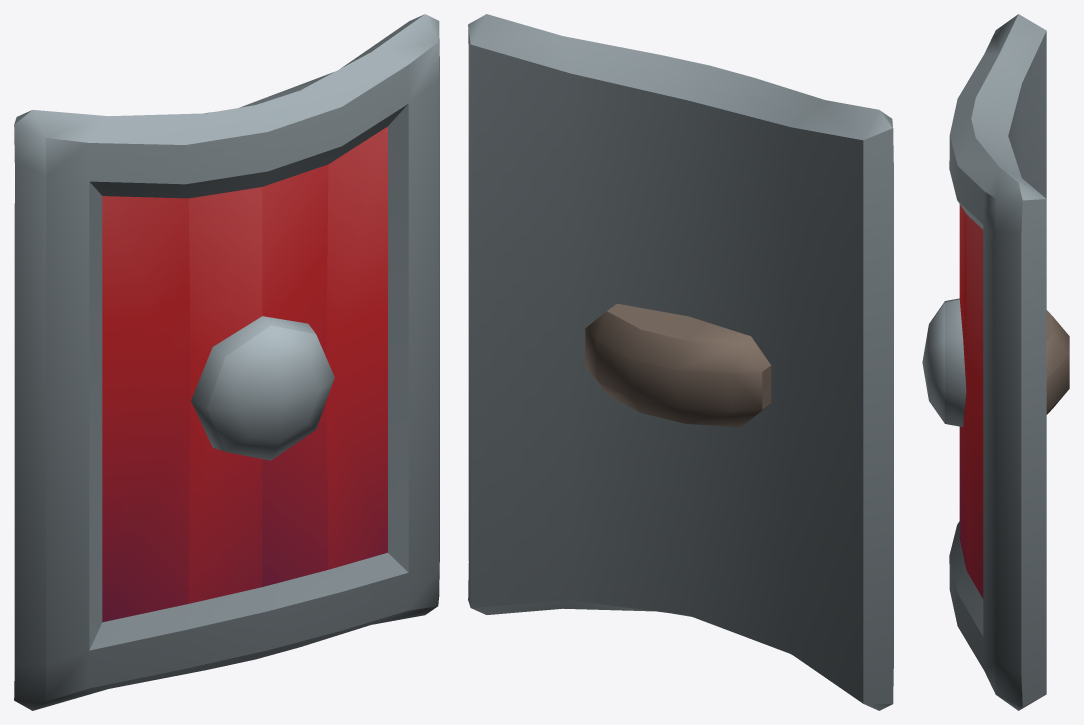
Rendered from shield_square_color.obj.
3 views of the same model, side by side, from view 1: azimuth 30°, elevation 25°; view 2: azimuth 150°, elevation 25°; view 3: azimuth 270°, elevation 25° (orthographic). The views are drawn at different scales.
Parts seen in each view (by area): view 1: shield_square_color; view 2: shield_square_color; view 3: shield_square_color.
Part boxes in pixels (x1,y1,x2,y2): shield_square_color: [14, 14, 439, 710]; shield_square_color: [468, 14, 893, 710]; shield_square_color: [922, 14, 1069, 710].
Bounding box in the file's own units: 0.8826 × 1.19 × 0.3011.
1 material, 1 textured.
